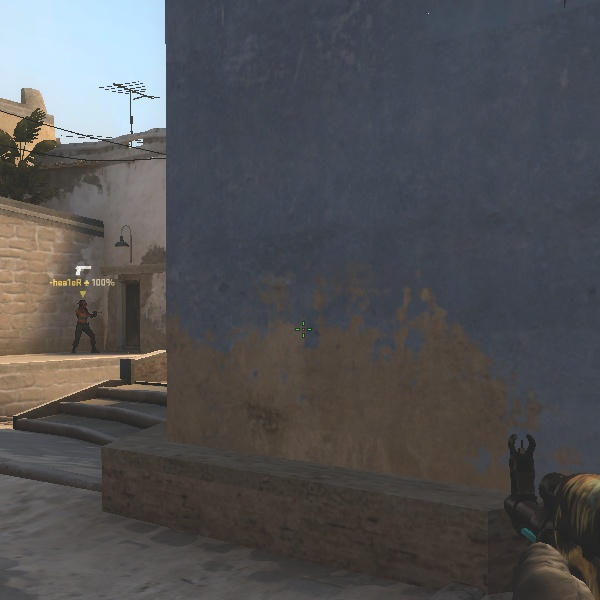t_body: (69, 296, 100, 355)
t_head: (77, 299, 90, 312)
